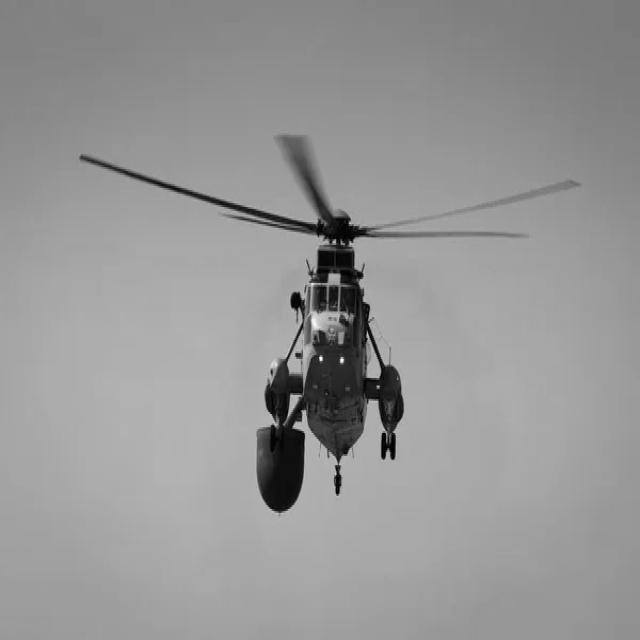Helicopter: (79, 135, 580, 512)
